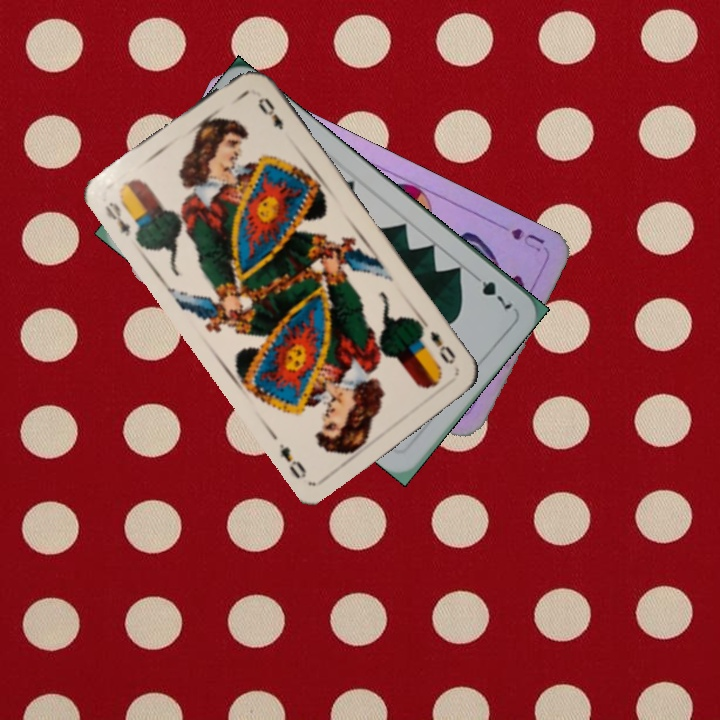EO: (100, 197, 134, 239), (426, 327, 459, 367)
G7: (467, 268, 516, 313)
SU: (491, 217, 547, 255)
